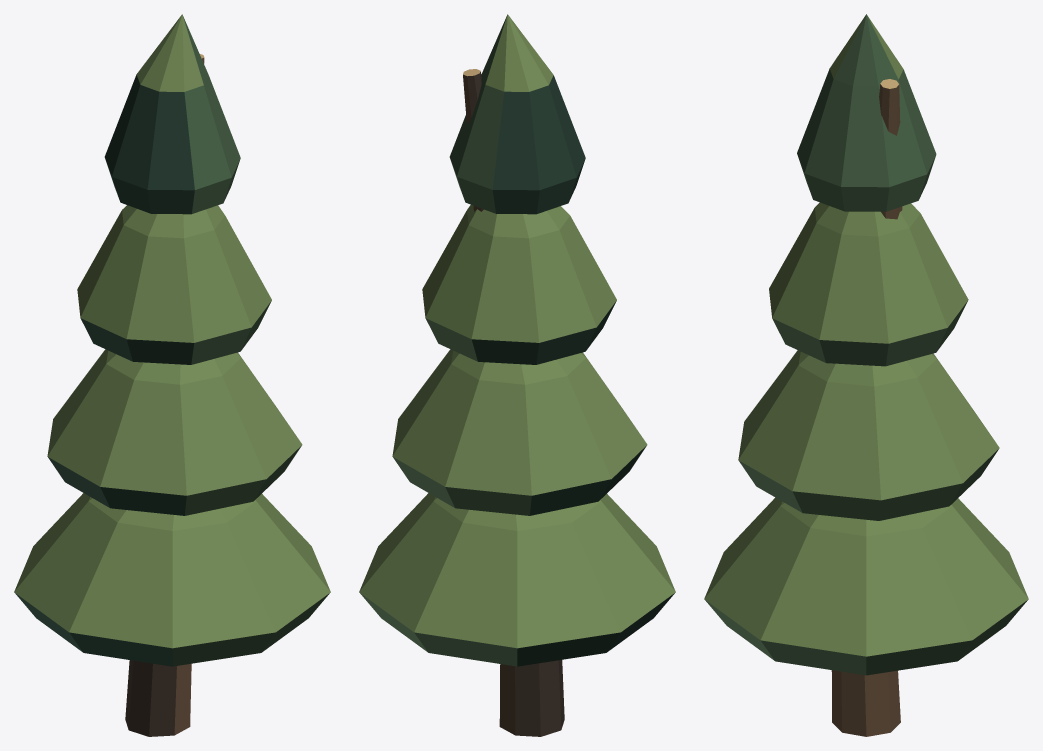
Rendered from TW_TREE_TIERED_SLIM_B_LOD0.glb.
The picture shows the model from 3 angles, left to right: view 1: azimuth 30°, elevation 25°; view 2: azimuth 150°, elevation 25°; view 3: azimuth 270°, elevation 25°; orthographic projection. The views are drawn at different scales.
Parts seen in each view (by area): view 1: TW_TREE_TIERED_SLIM_B_LOD0; view 2: TW_TREE_TIERED_SLIM_B_LOD0; view 3: TW_TREE_TIERED_SLIM_B_LOD0.
Part boxes in pixels (<box>): TW_TREE_TIERED_SLIM_B_LOD0: <box>14,14,330,736</box>; TW_TREE_TIERED_SLIM_B_LOD0: <box>359,14,675,736</box>; TW_TREE_TIERED_SLIM_B_LOD0: <box>704,14,1028,736</box>.
Size of the model in its own units: 1.65 by 4.1 by 1.67.
Materials: 1 (1 with a texture image).
